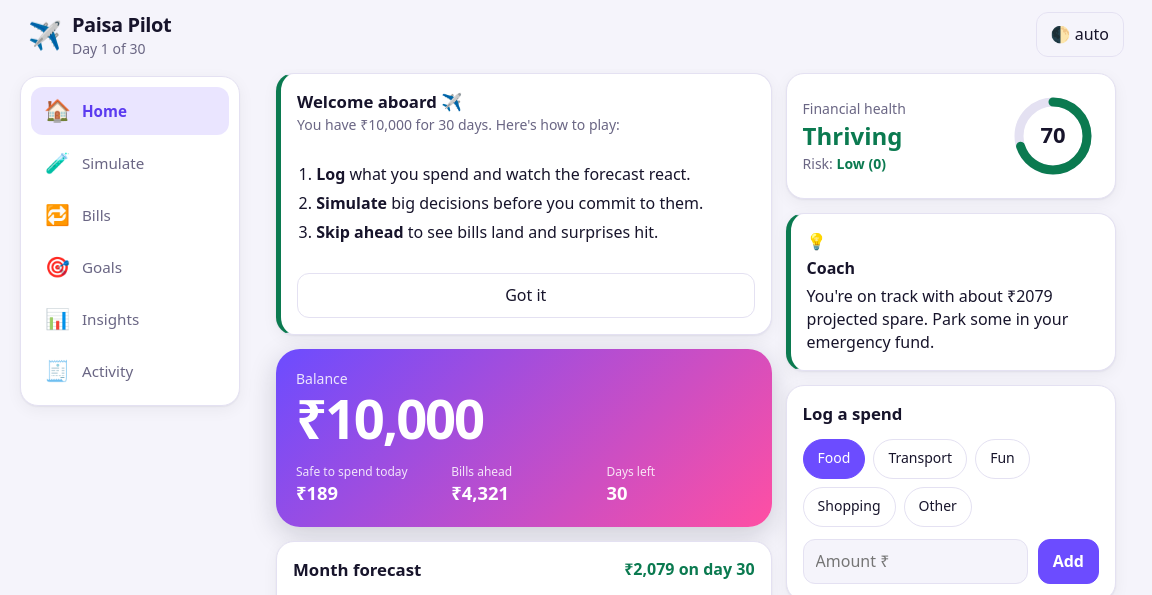
App › keeps the URL hash in sync with the active screen
Click the button "🎯 Goals". click: [130, 267]
box: [31,243,229,291]
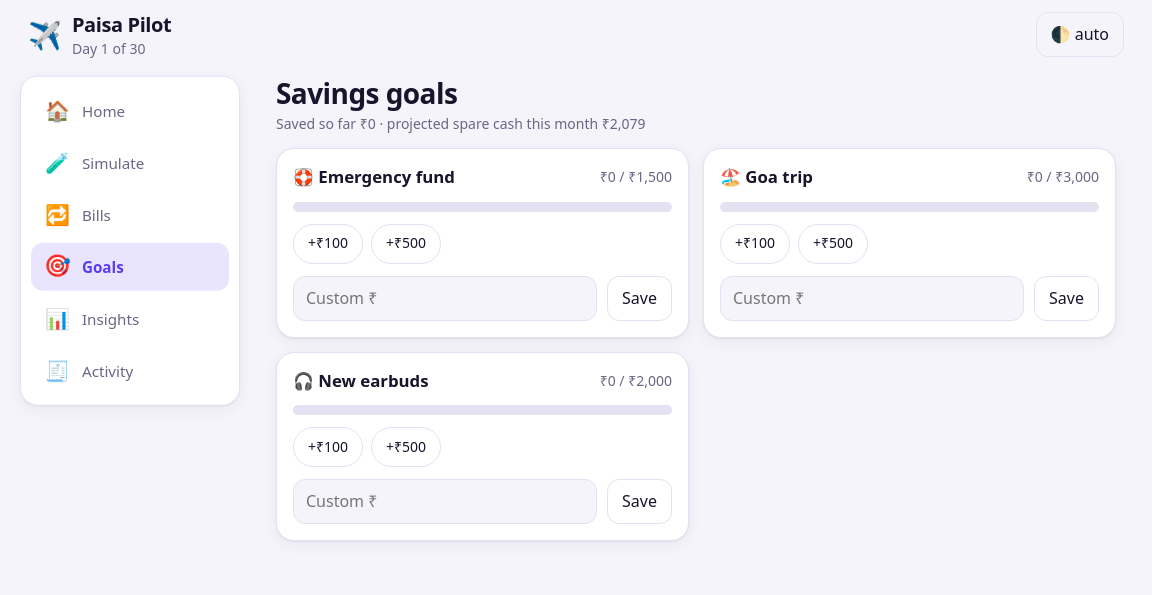
Check: the heading "Savings goals" is shown, box [276,74,457,112]
